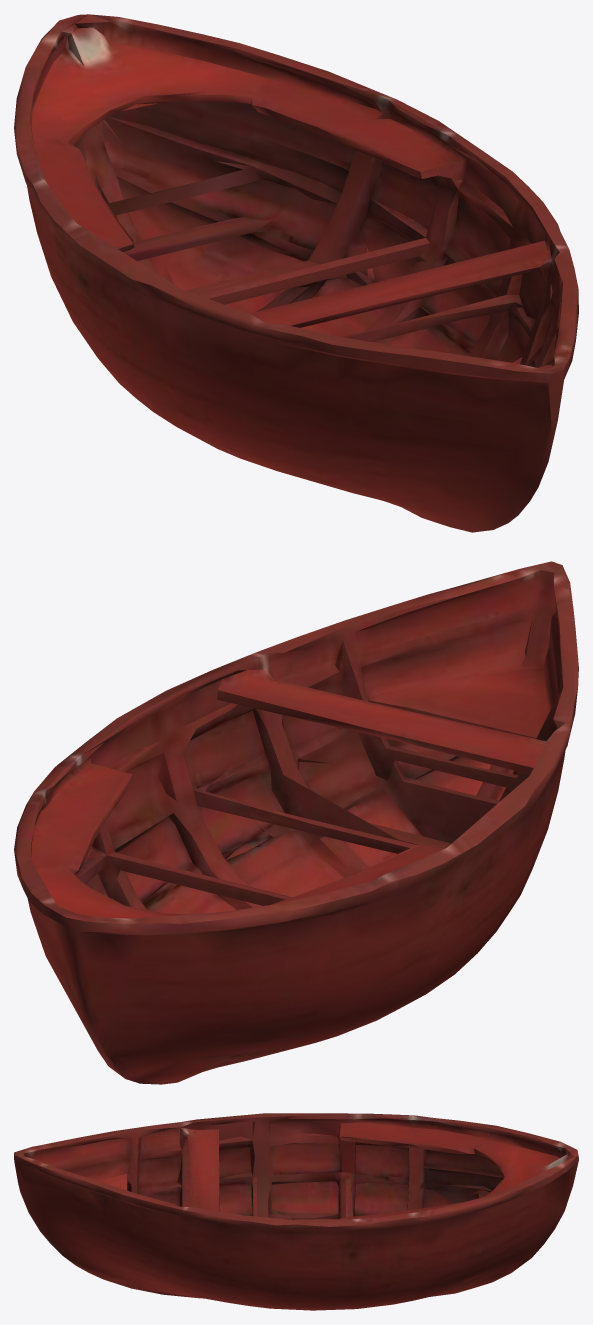
File: canoe.glb
3 renders of one model, top to bottom at view 1: azimuth 30°, elevation 25°; view 2: azimuth 150°, elevation 25°; view 3: azimuth 270°, elevation 25°, orthographic. The views are drawn at different scales.
Visible parts, largest first — view 1: canoe; view 2: canoe; view 3: canoe.
Boxes of the visible parts, x1=… form: canoe: x1=14, y1=14, x2=578, y2=532; canoe: x1=14, y1=561, x2=578, y2=1084; canoe: x1=14, y1=1113, x2=578, y2=1310.
Bounding box in the file's own units: 0.9876 × 0.6 × 2.08.
1 material, 1 textured.
